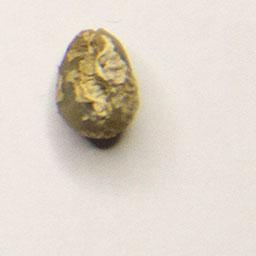peaberry: (51, 23, 144, 151)
